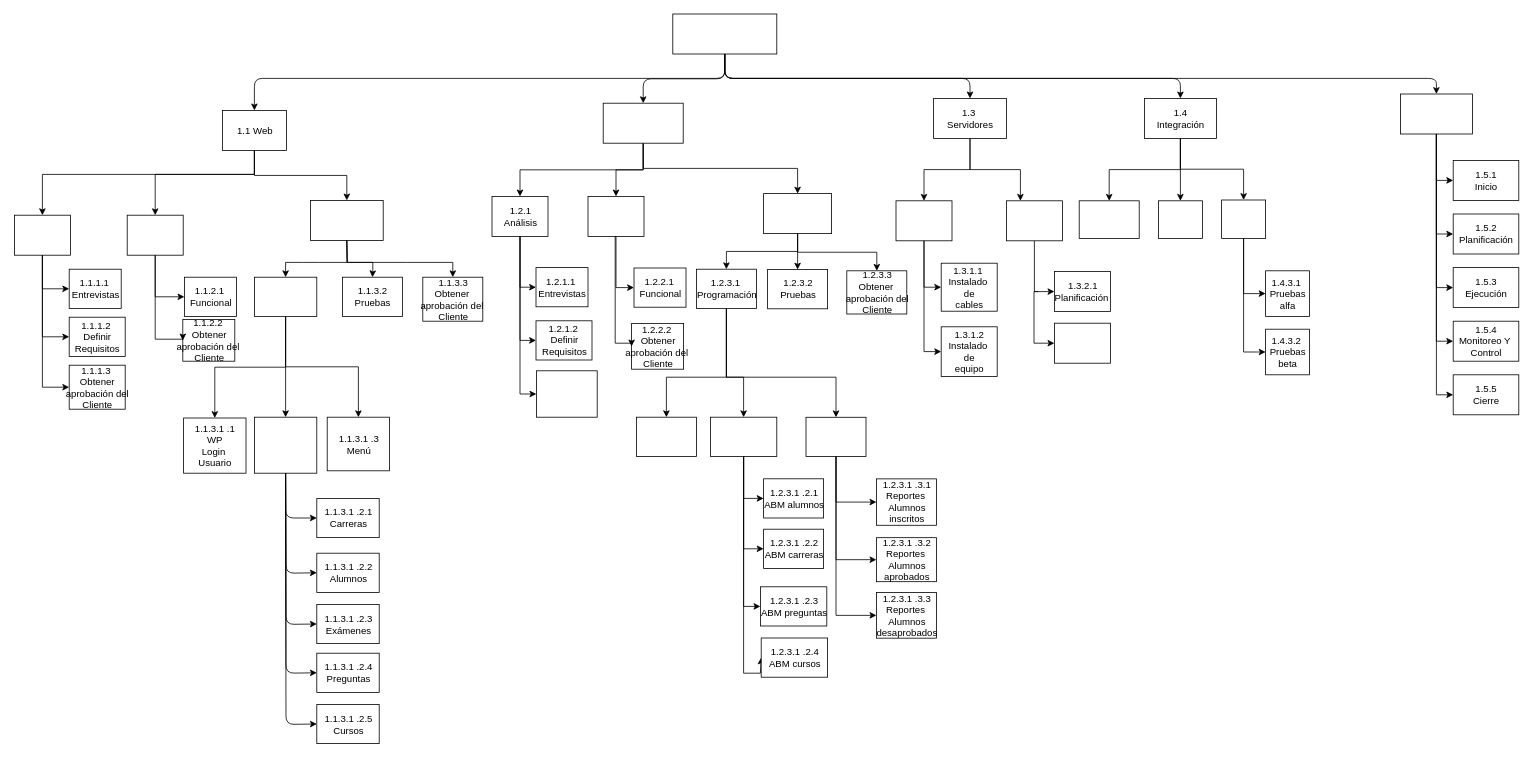
This 1533x758 diagram has some shape labels left out. Each missing label, with the centre of its shape:
"1 Plataforma Online de Adiministracion" belongs at point (724, 33).
"1.1.1 Análisis" belongs at point (42, 234).
"1.1.2 Diseño" belongs at point (154, 234).
"1.1.3 Implementación" belongs at point (346, 220).
"1.1.3.1 .2 ABM" belongs at point (285, 444).
"1.1.3.1 Programación" belongs at point (285, 296).
"1.2 Backend" belongs at point (642, 122).
"1.2.1.3 Obtener aprobación del Cliente" belongs at point (566, 393).
"1.2.2 Diseño" belongs at point (615, 216).
"1.2.3 Implementacion" belongs at point (797, 213).
"1.2.3.1 .1 Exámenes" belongs at point (666, 436).
"1.2.3.1 .2 Procedimientos" belongs at point (743, 436).
"1.2.3.1 .3 Views" belongs at point (835, 436).
"1.3.1 Instalación" belongs at point (923, 220).
"1.3.2 Prueba Servidores" belongs at point (1034, 220).
"1.3.2.2 Ejecución" belongs at point (1082, 342).
"1.4.1 Planificación" belongs at point (1108, 219).
"1.4.2 Ejecución" belongs at point (1180, 219).
"1.4.3 Pruebas" belongs at point (1243, 218).
"1.5 Proyect Management" belongs at point (1436, 113).
